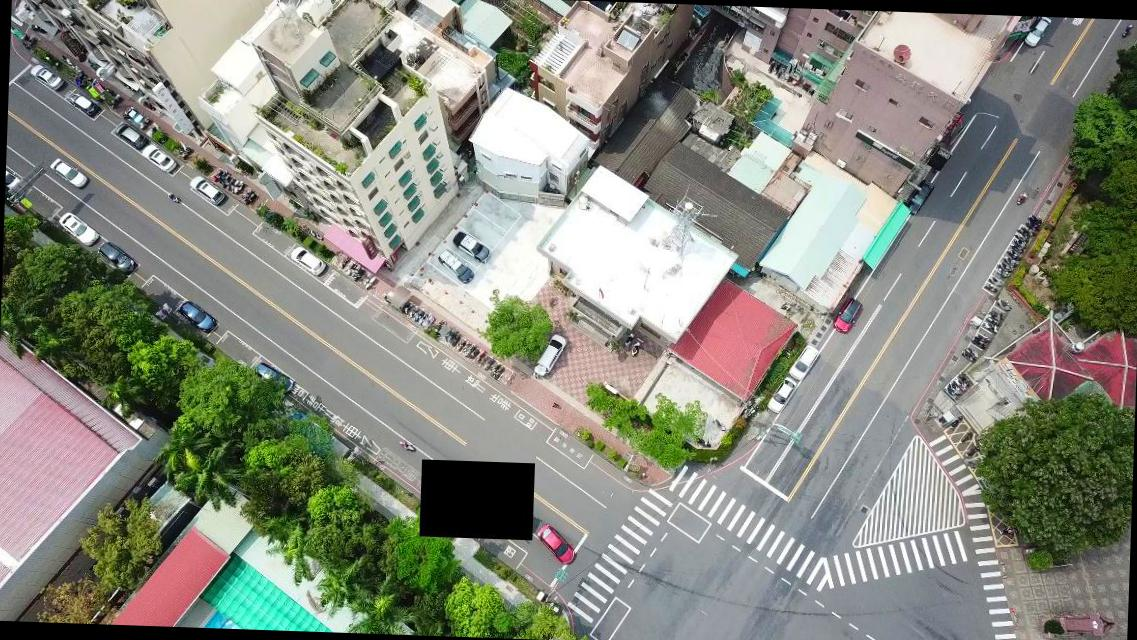vehicle: (534, 523, 576, 565), (530, 333, 566, 380), (55, 211, 100, 247), (435, 248, 476, 284), (95, 240, 136, 274), (252, 361, 294, 393), (451, 230, 491, 263), (786, 342, 820, 380), (49, 157, 88, 189), (176, 300, 215, 332), (765, 375, 796, 414), (904, 178, 936, 215), (187, 175, 225, 206), (138, 143, 177, 173), (288, 246, 326, 276), (832, 295, 862, 333), (1019, 16, 1051, 48), (27, 63, 64, 90), (113, 122, 148, 150), (66, 92, 98, 116), (5, 166, 20, 188)
